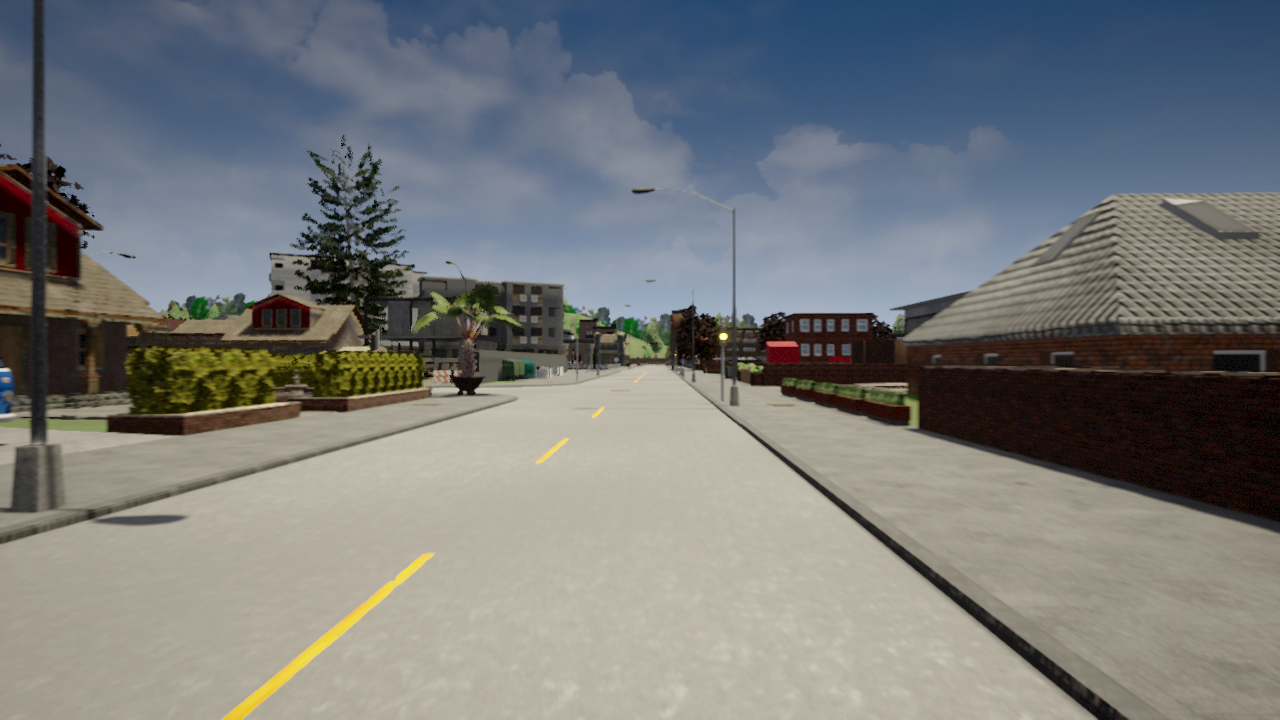yellow: (717, 326, 729, 347)
